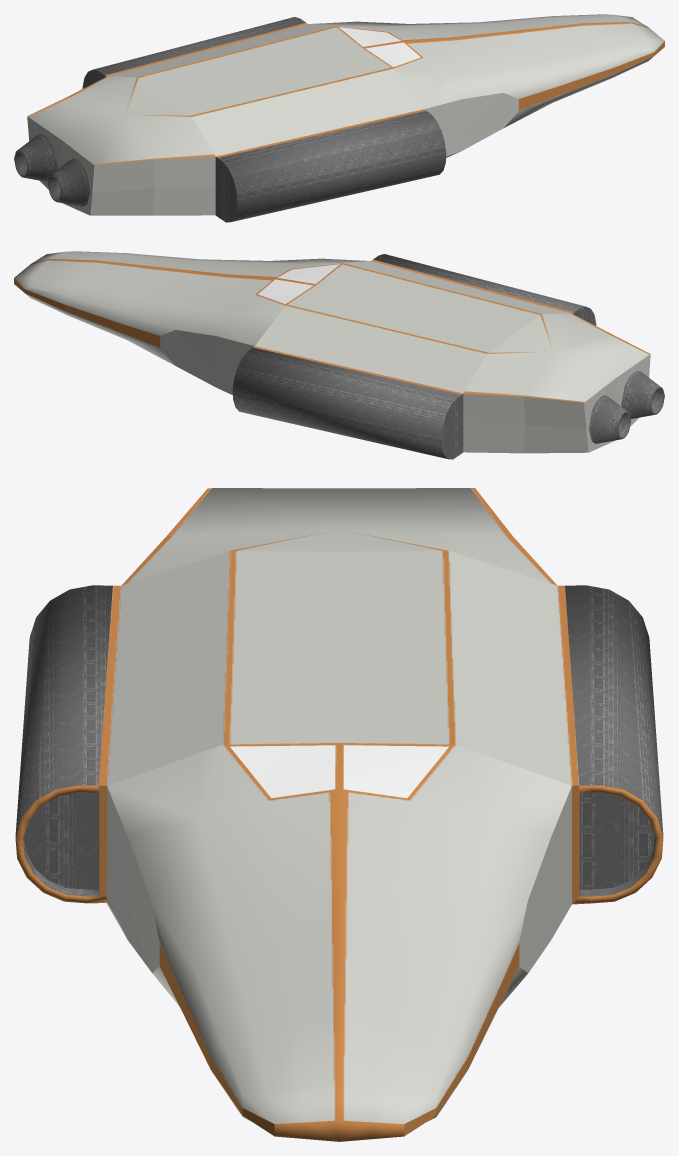
Rendered from ship.gltf.
3 renders of one model, top to bottom at view 1: azimuth 30°, elevation 25°; view 2: azimuth 150°, elevation 25°; view 3: azimuth 270°, elevation 25°, orthographic. The views are drawn at different scales.
Visible parts, largest first — view 1: Ship; view 2: Ship; view 3: Ship.
Part boxes in pixels (box(x1,y1,x2,y2)): Ship: box(14, 14, 664, 222); Ship: box(14, 251, 664, 459); Ship: box(15, 488, 663, 1141).
Size of the model in its own units: 21.73 by 3.54 by 9.98.
Materials: 4 (3 with a texture image).
